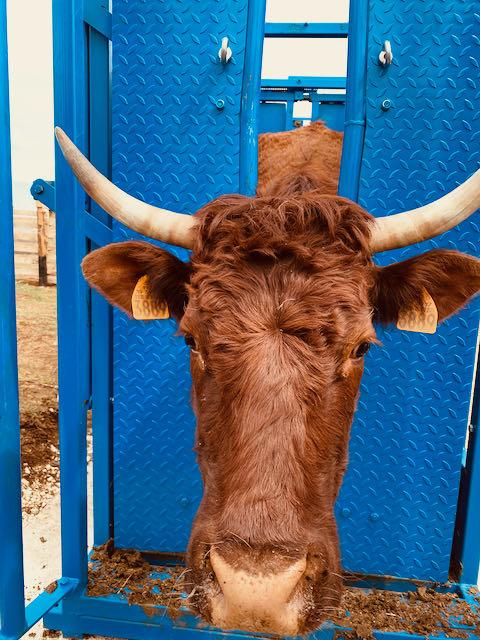muzzles: (182, 528, 338, 636)
